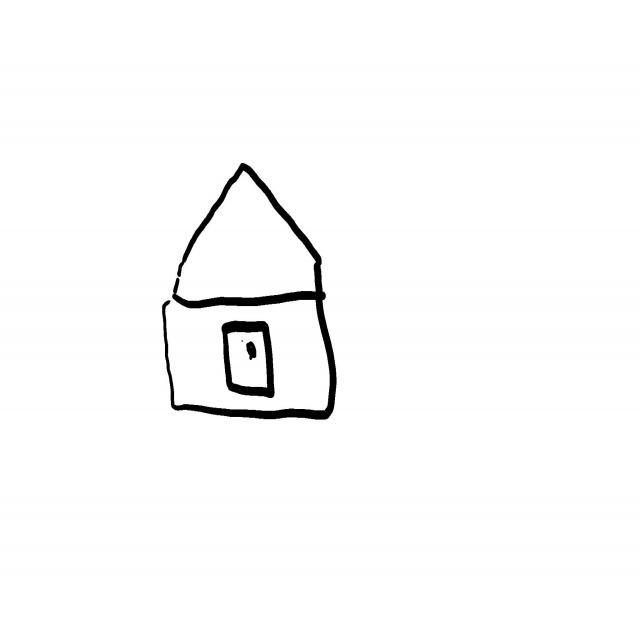door: (222, 322, 274, 398)
house: (163, 164, 336, 419)
wall: (162, 294, 335, 415), (175, 163, 326, 301)
